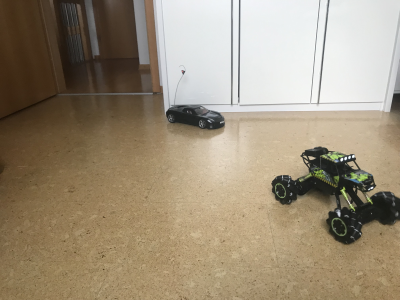remote control car: (269, 144, 400, 246)
